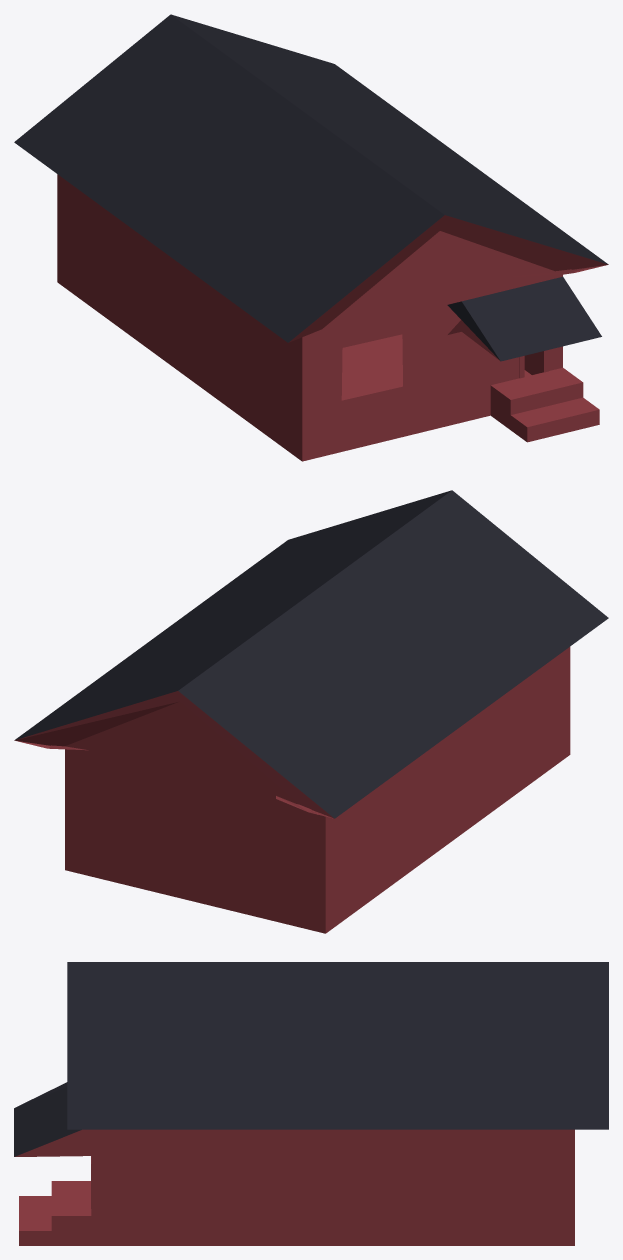
Rendered from house.fbx.
3 views of the same model, one above another, from view 1: azimuth 30°, elevation 25°; view 2: azimuth 150°, elevation 25°; view 3: azimuth 270°, elevation 25° (orthographic).
Parts seen in each view (by area): view 1: Cube; view 2: Cube; view 3: Cube.
Boxes of the visible parts, <box> form: Cube: <box>14,14,608,461</box>; Cube: <box>14,490,608,933</box>; Cube: <box>14,962,608,1245</box>.
Bounding box in the file's own units: 984 × 656 × 1600.
